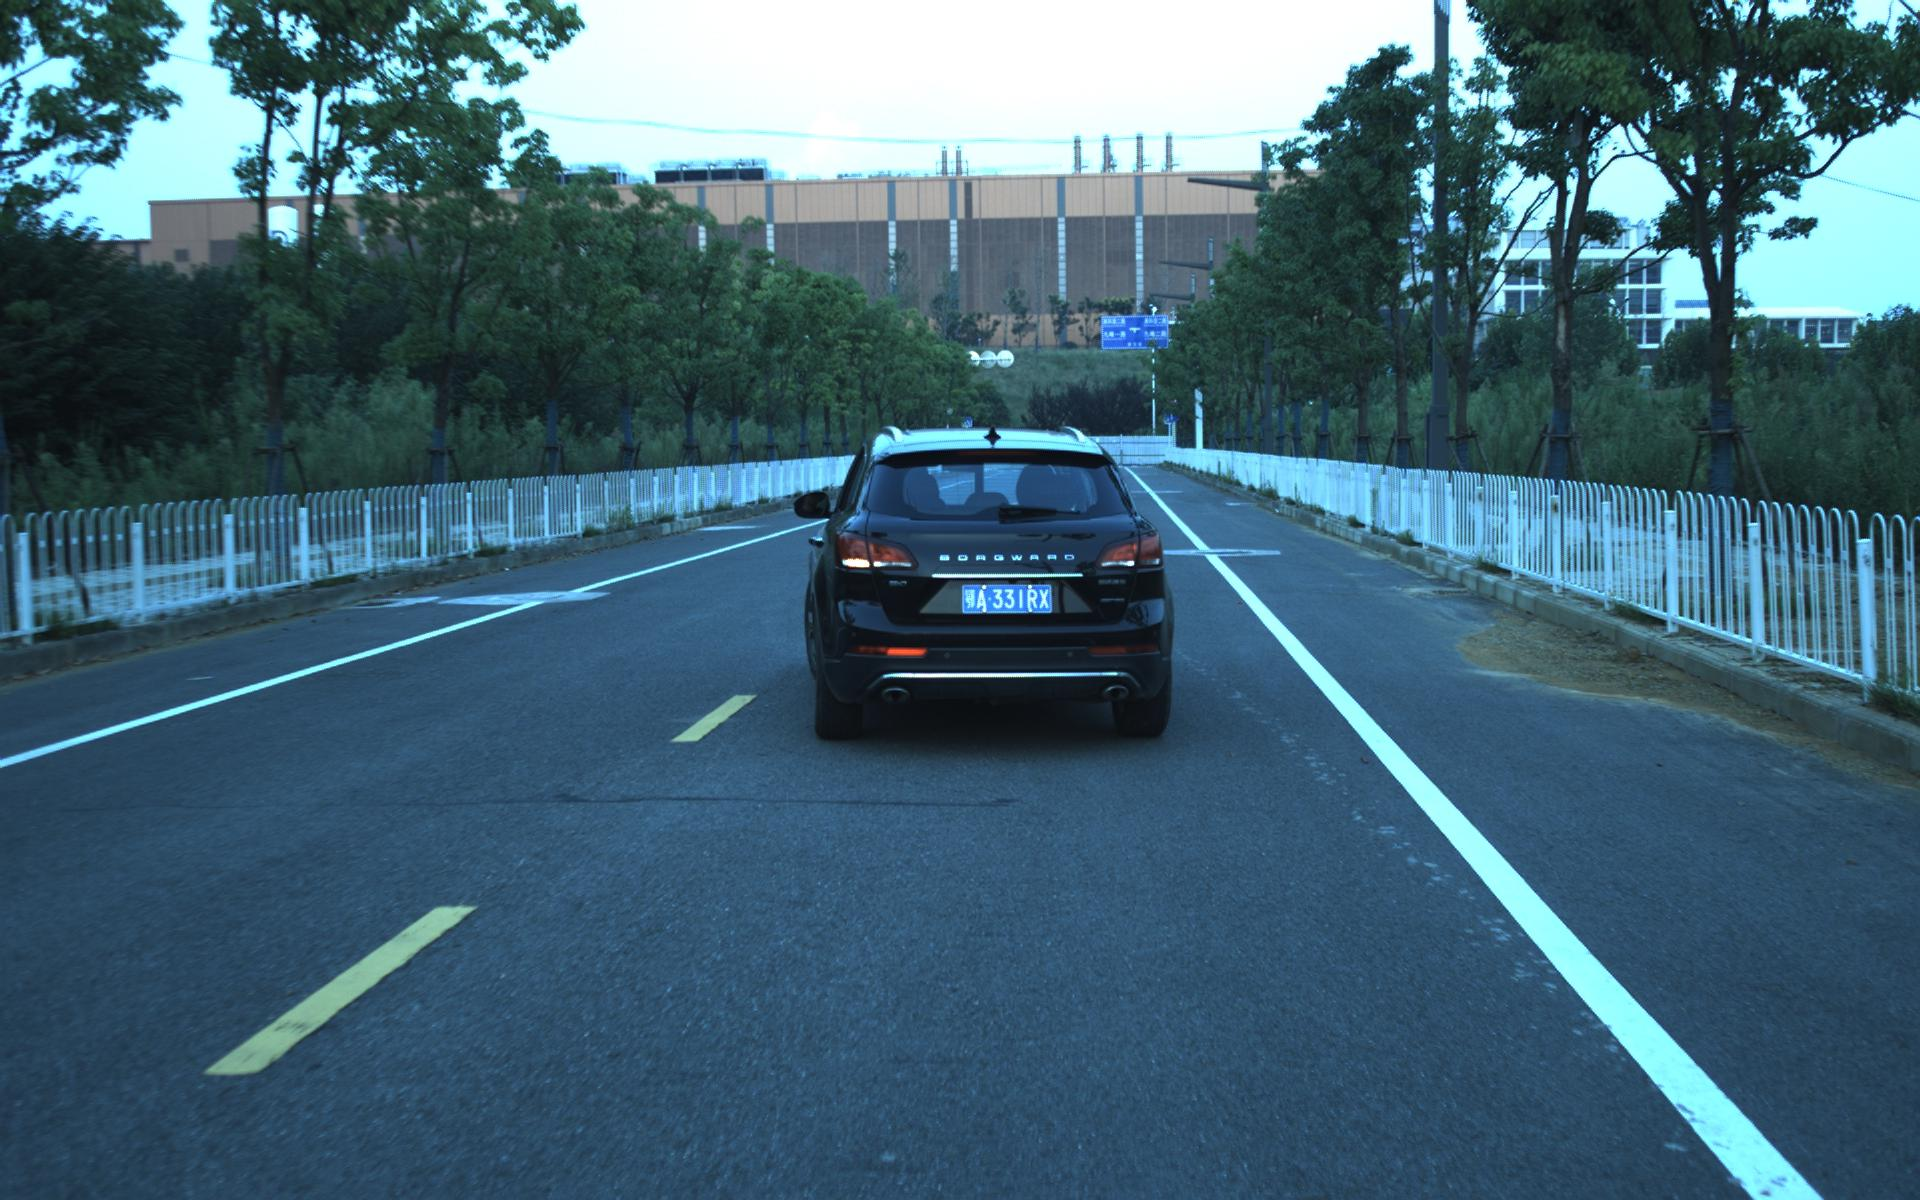Car: (800, 415, 1178, 749)
